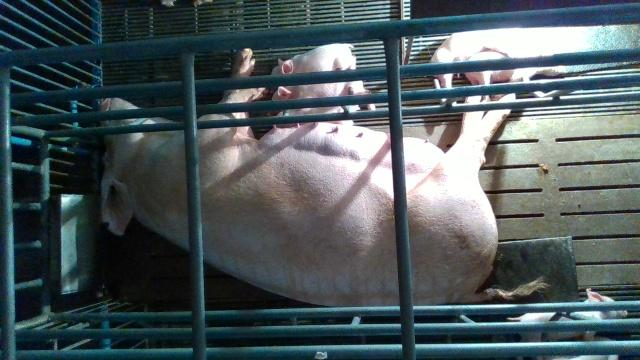piglet: (509, 288, 628, 360), (271, 81, 376, 112), (273, 43, 357, 76)
sow-sleep-lactate: (100, 47, 546, 306)
